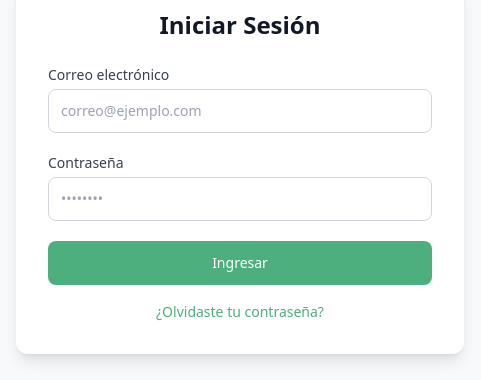
Scenario: LoginPage › bug condition — toggle propio de contraseña (Property 1) › alterna el input de contraseña de "password" a "text" y de vuelta al activar el toggle
# Escribir contenido para que aparezca el toggle.
Type "clave123" into the password field labelled "Contraseña".
click(240, 198); type("clave123")  # box [48,176,432,220]
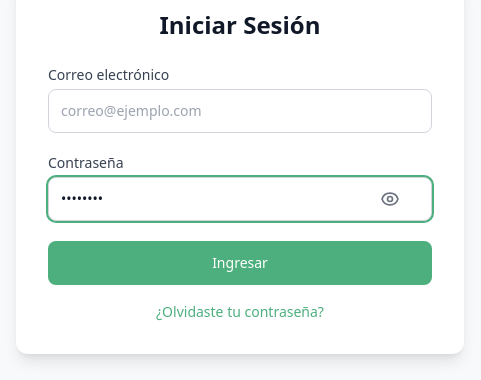
Click the button named "mostrar contraseña".
click(402, 198)  # box [380,176,424,220]
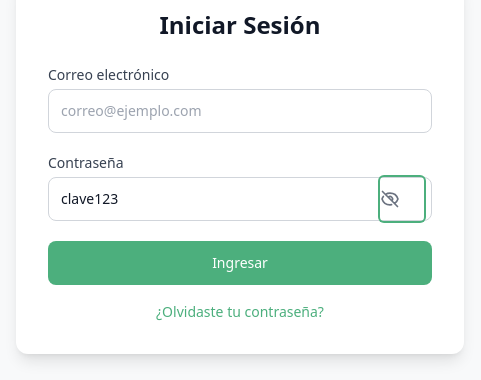
Now the field labelled "Contraseña" shows its text, box [48,176,432,220]
Click the button named "mostrar contraseña".
click(402, 198)  # box [380,176,424,220]
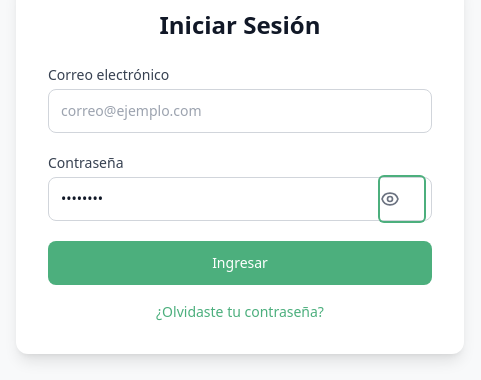
Now the password field labelled "Contraseña" hides its text, box [48,176,432,220]
